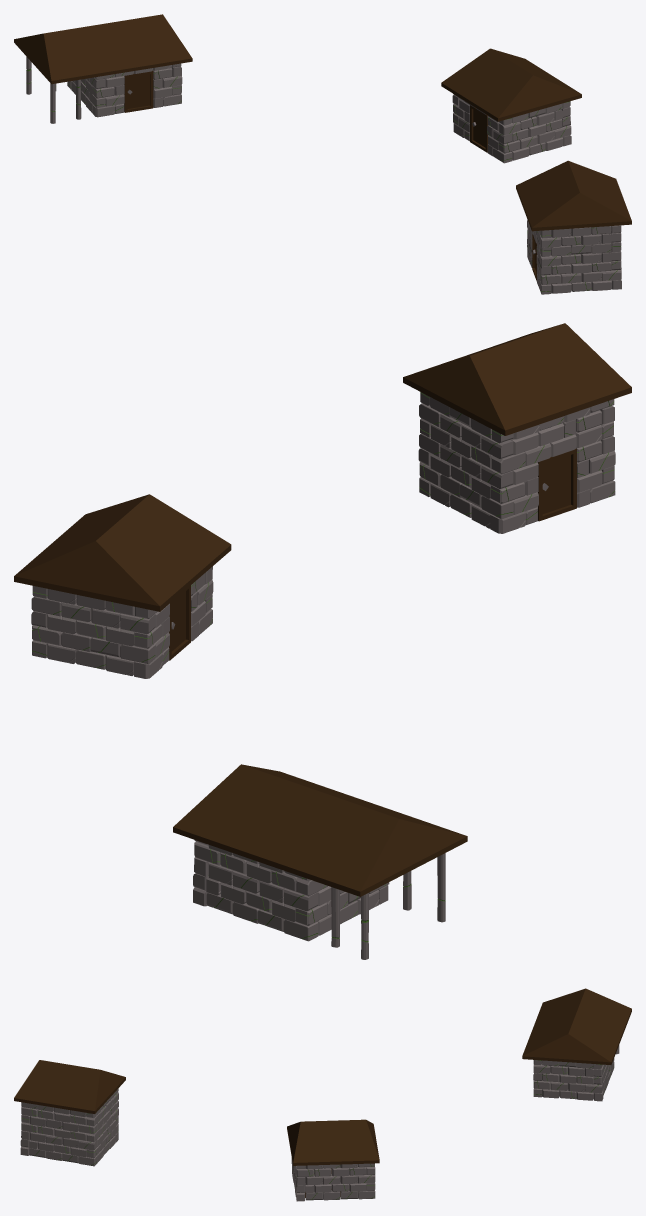
The model's file is casine2.fbx.
3 views of the same model, one above another, from view 1: azimuth 30°, elevation 25°; view 2: azimuth 150°, elevation 25°; view 3: azimuth 270°, elevation 25° (orthographic). The views are drawn at different scales.
Parts seen in each view (by area): view 1: casine.001; view 2: casine.001; view 3: casine.001.
Part boxes in pixels (<box>): casine.001: <box>14,14,631,294</box>; casine.001: <box>14,323,631,959</box>; casine.001: <box>14,988,631,1201</box>.
Size of the model in its own units: 1757 by 422 by 2863.
